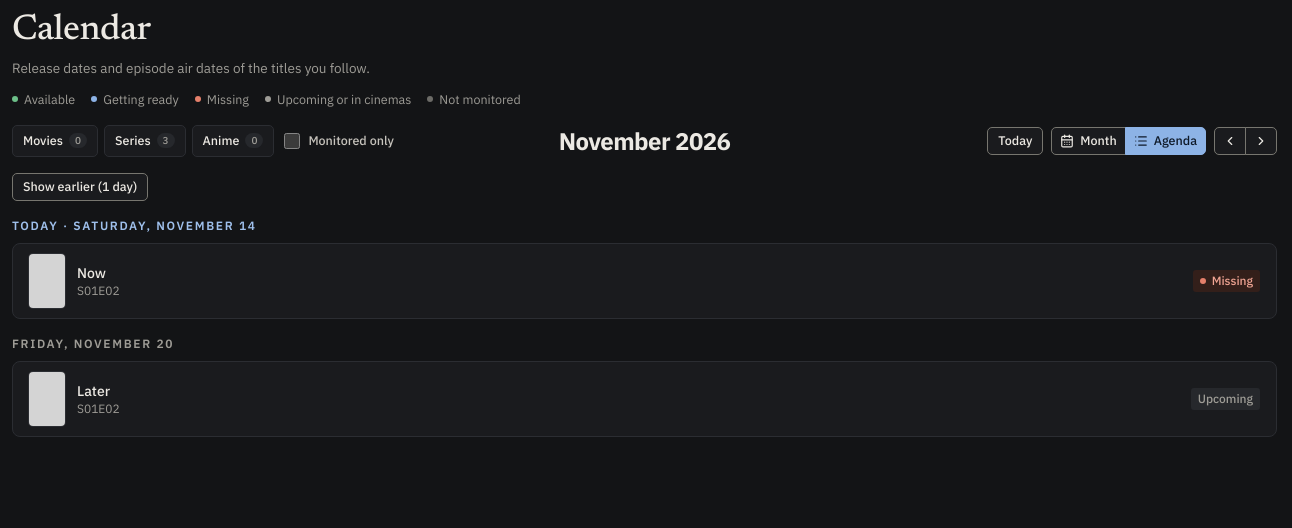
starts this month's agenda at today, with Show earlier, and Today goes back there
This screenshot has width=1292, height=528.
Expected: the text "Now" is shown, [77,264,106,282]
Expected: the text "Later" is shown, [77,382,110,400]
Click the button "Show earlier (1 day)": (80,187) [12,173,148,201]
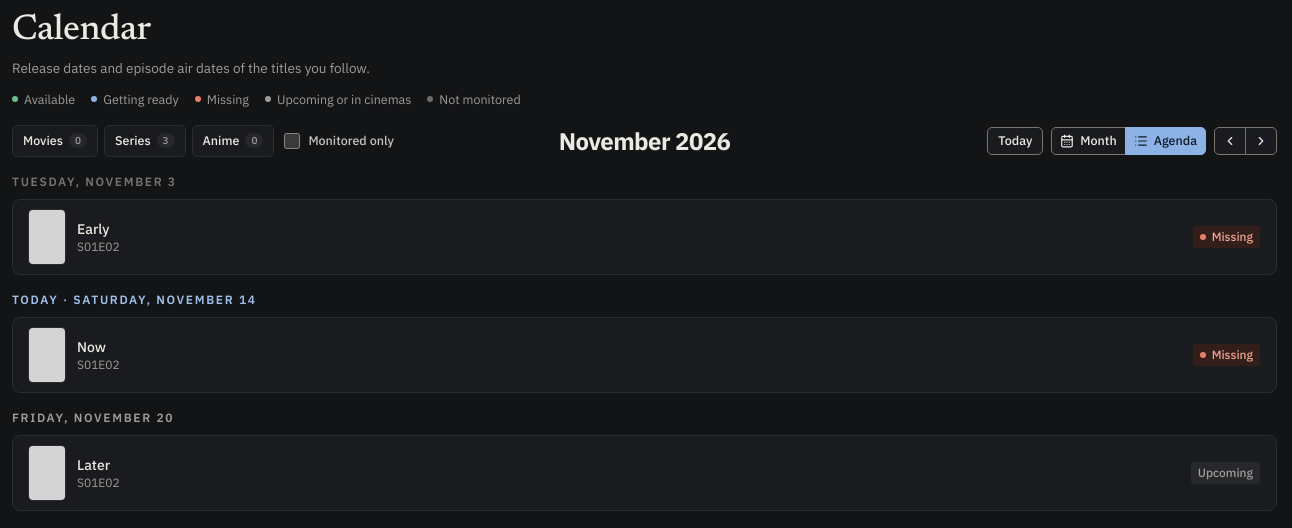
Expected: the text "Early" is shown, [77,220,109,238]
Click the button "Today": (1015,141) [987,127,1043,155]
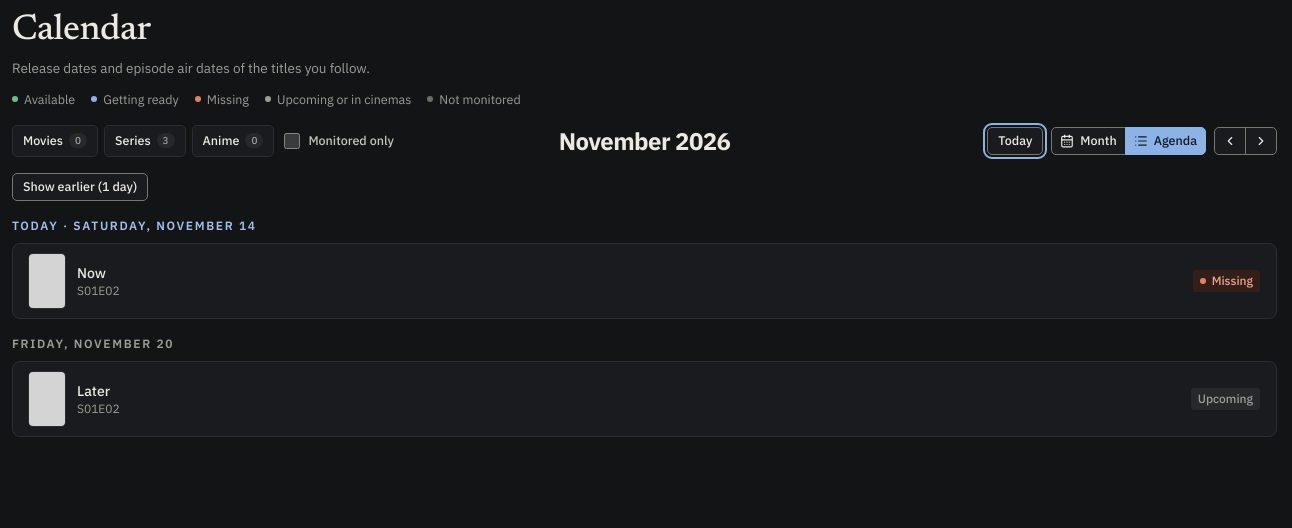
Expected: the link "Early" is gone
# Another month is shown whole.
Click the button named "Previous month": (1230,141) [1214,127,1246,155]
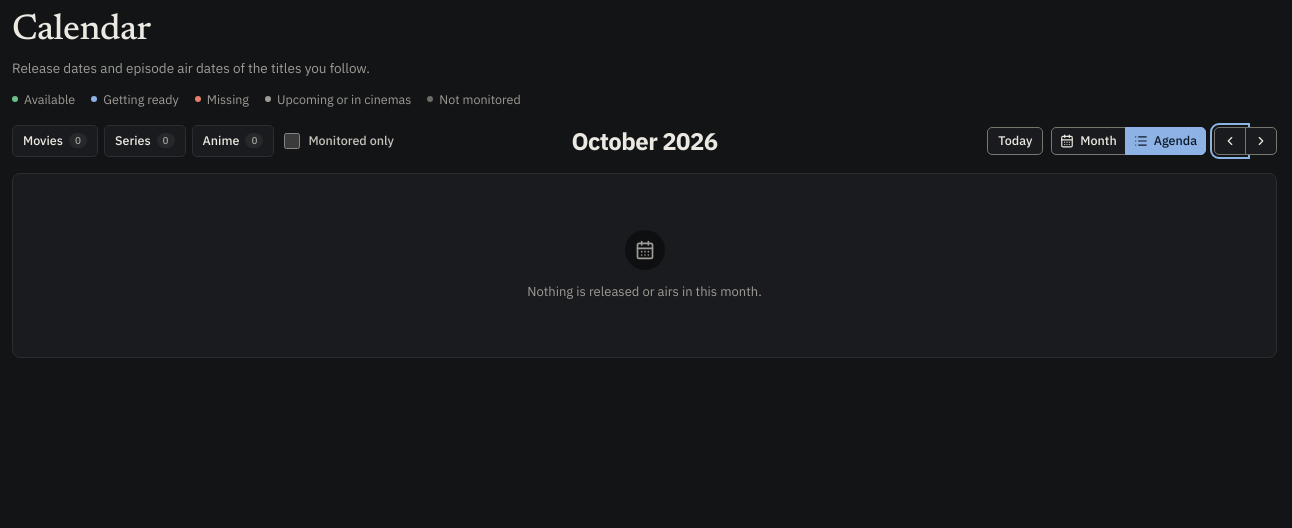
Expected: the button "Show earlier" is gone
